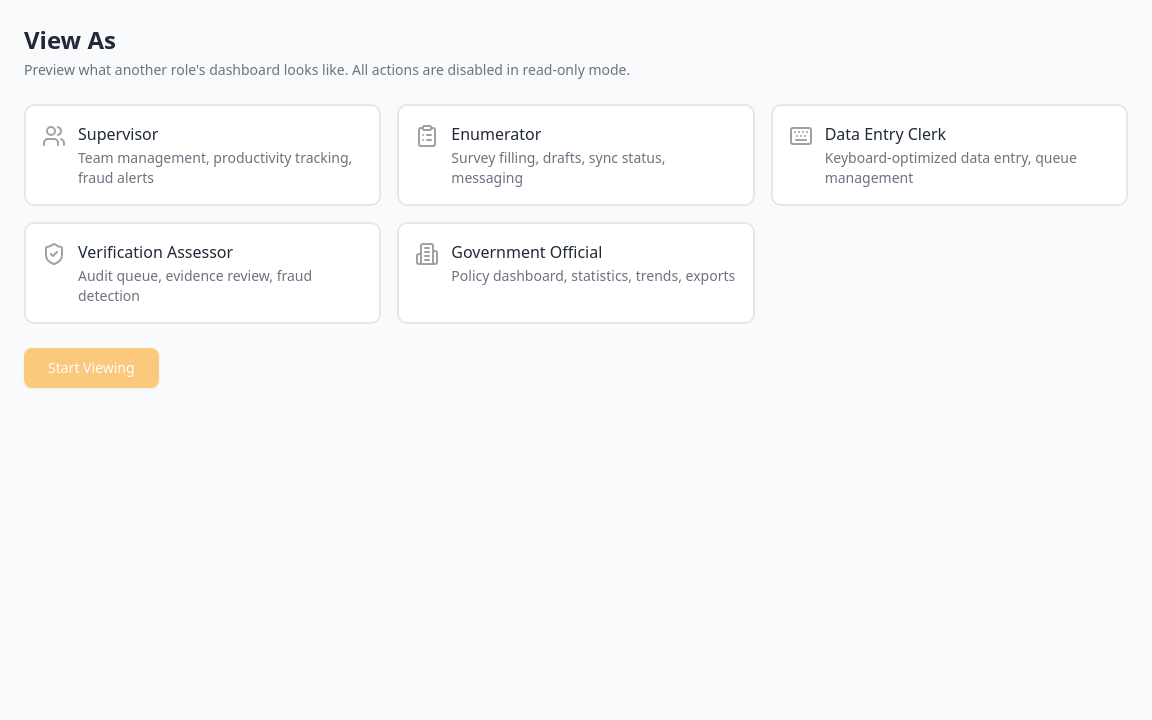
Scenario: ViewAsPage › "Start Viewing" button enabled for non-field roles without LGA
Click the button with test id "role-card-data_entry_clerk". click: (949, 155)
box: [771,104,1128,206]
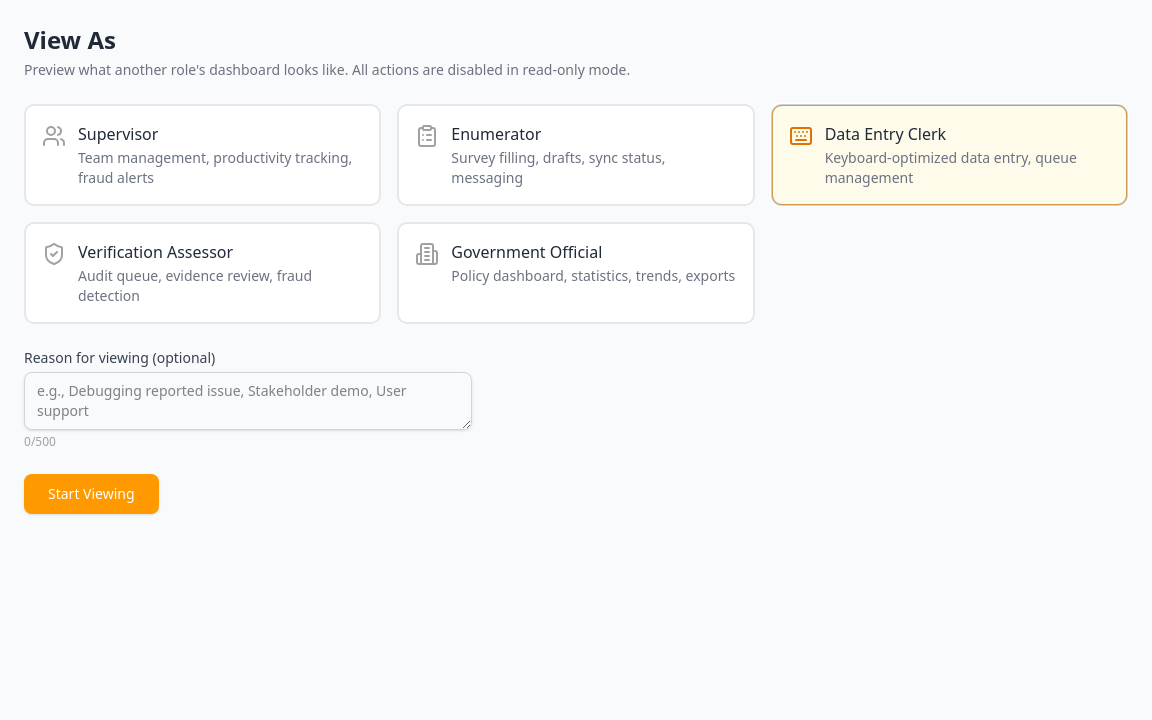
Expected: the button with test id "start-view-as" is enabled, [24,474,159,514]
